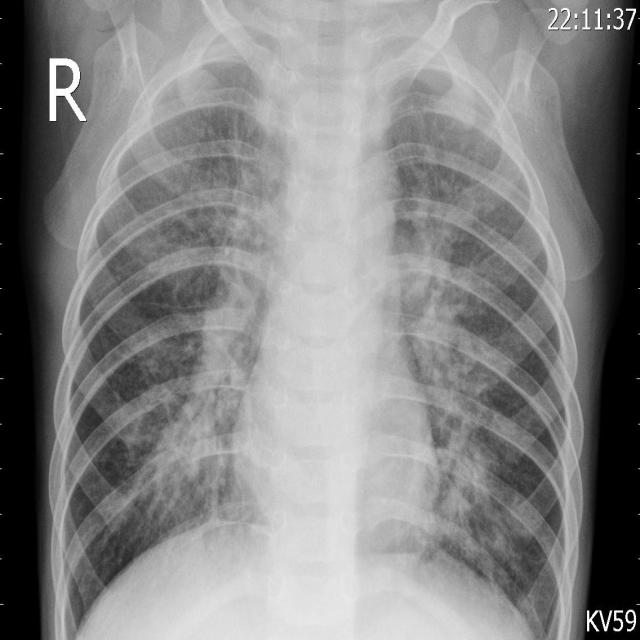low-pneumonia: (387, 196, 523, 578), (154, 123, 285, 512)
